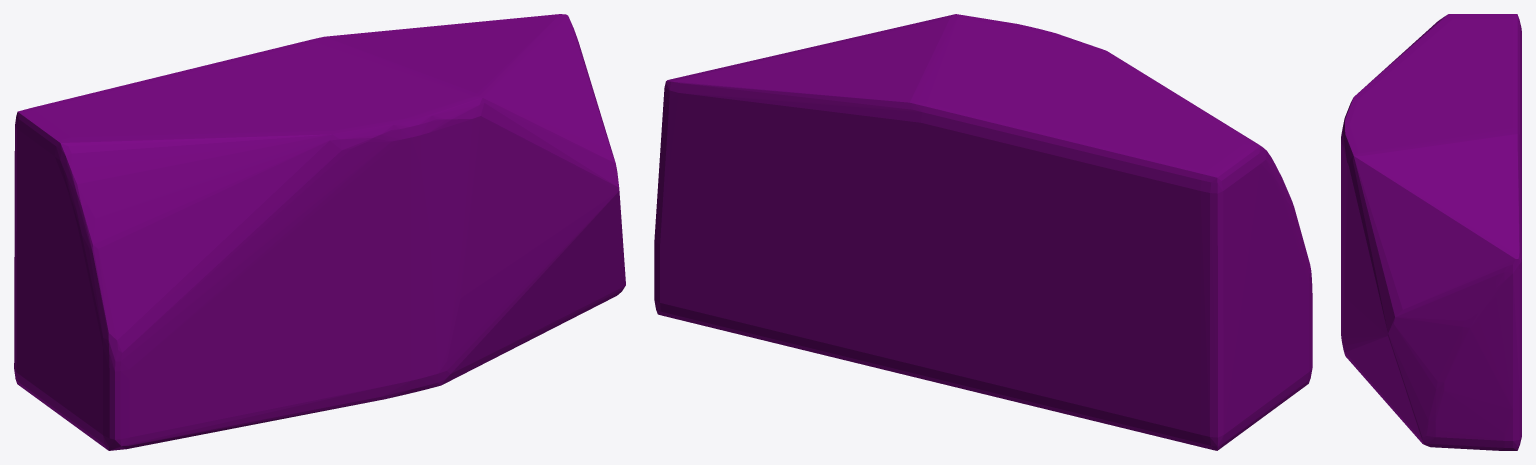
Rendered from right_shoulder_pitch_link_part_11.obj.
3 views of the same model, side by side, from view 1: azimuth 30°, elevation 25°; view 2: azimuth 150°, elevation 25°; view 3: azimuth 270°, elevation 25° (orthographic). The views are drawn at different scales.
Size of the model in its own units: 0.0592 by 0.0273 by 0.0204.
